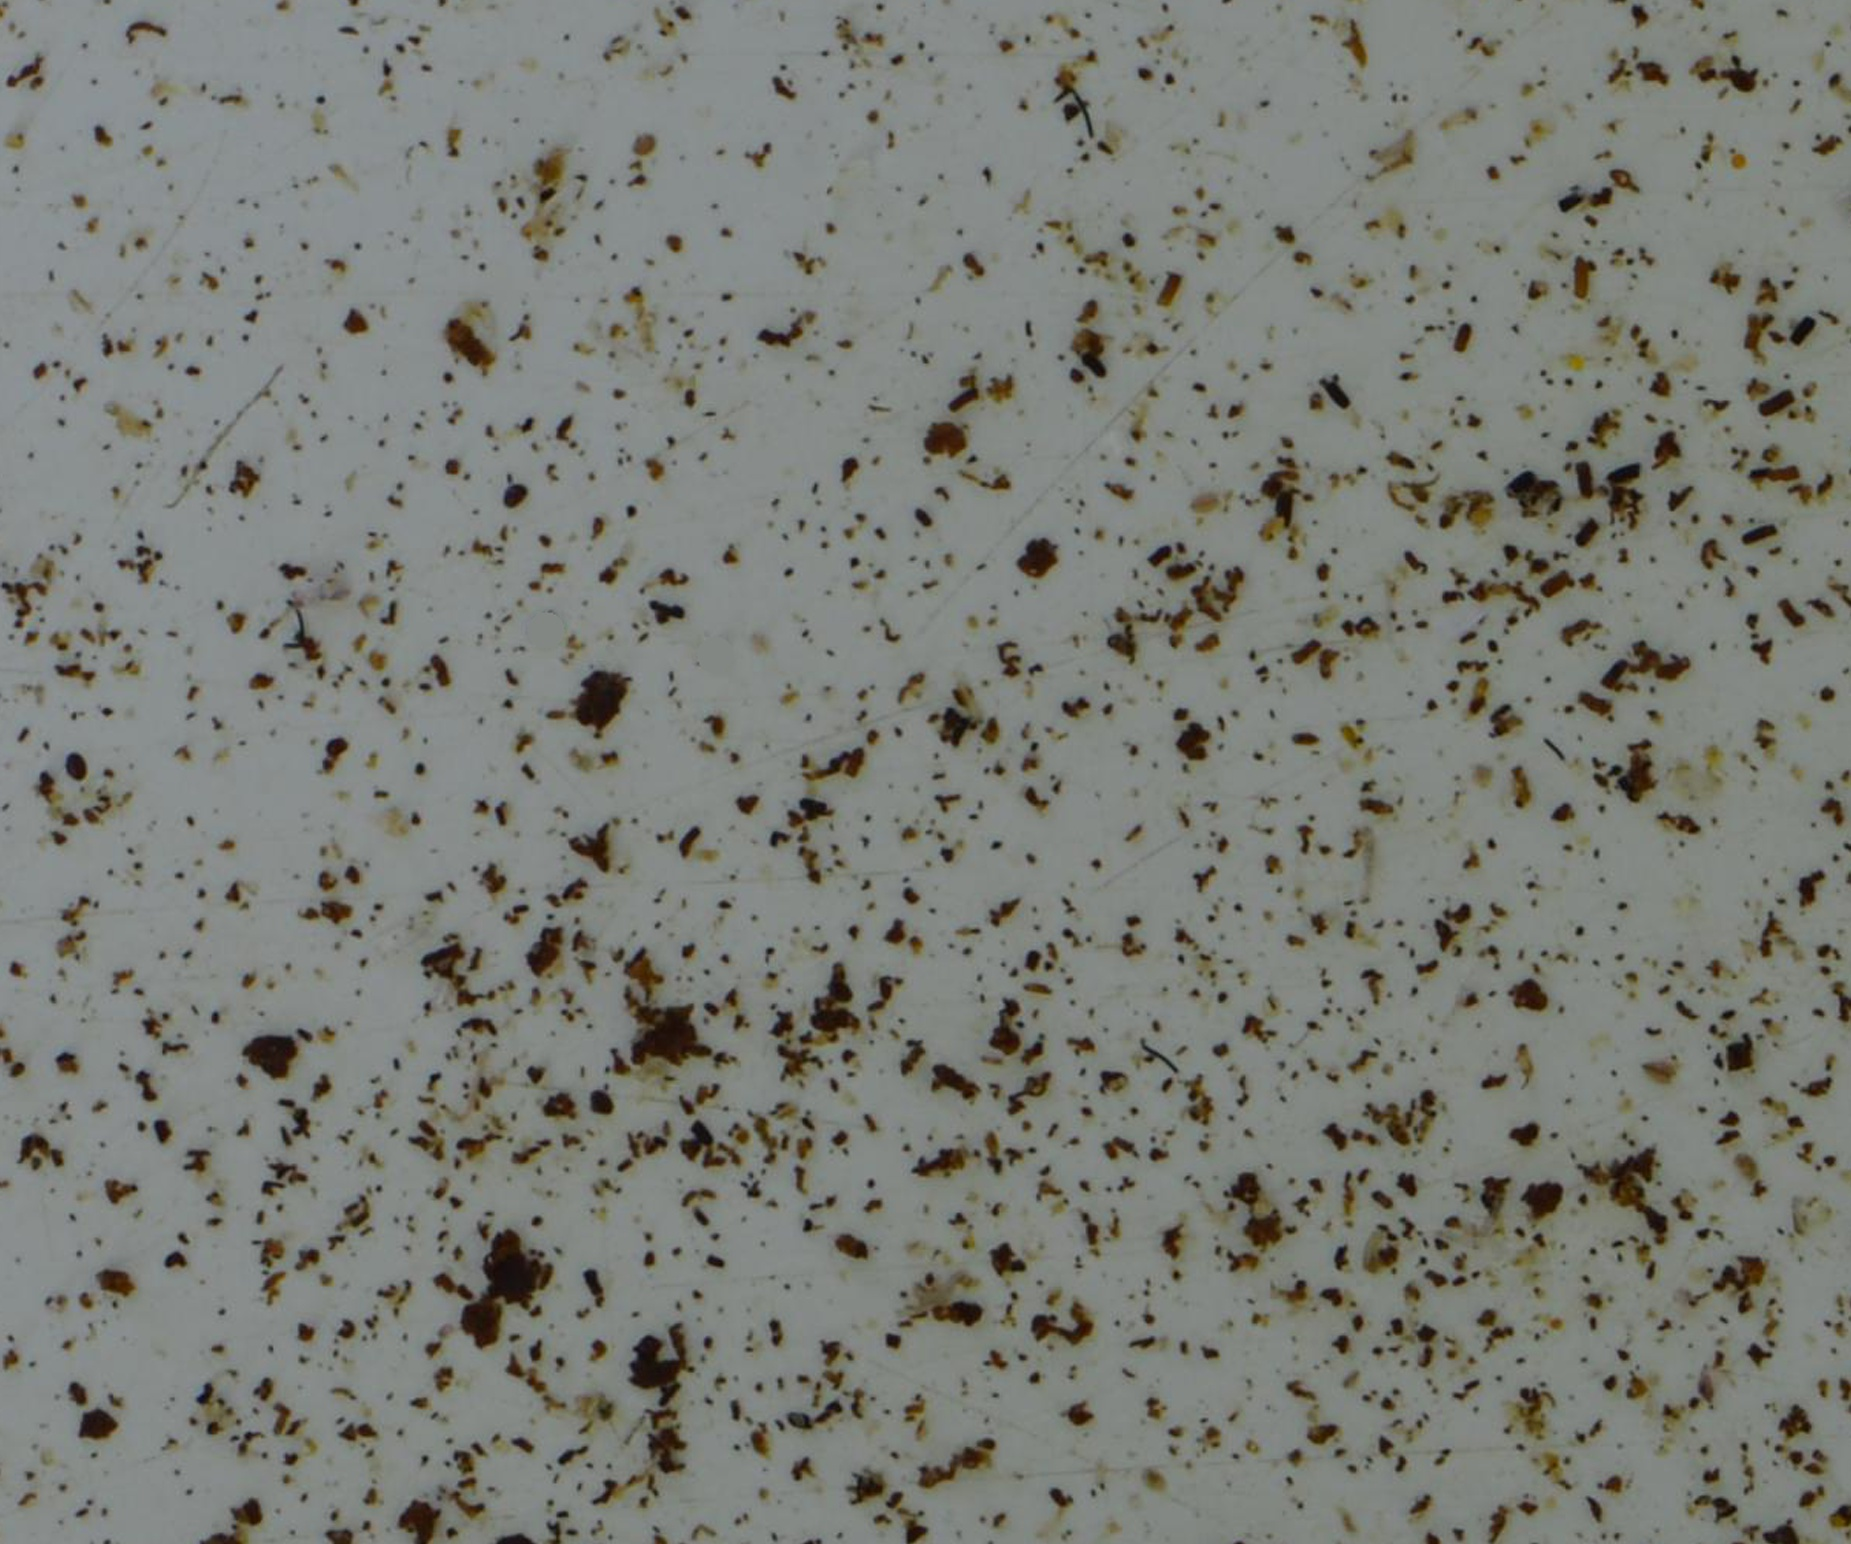Varroa: (812, 1001, 849, 1035), (1726, 66, 1759, 101), (65, 754, 95, 787), (500, 481, 529, 515), (586, 1086, 615, 1116)
